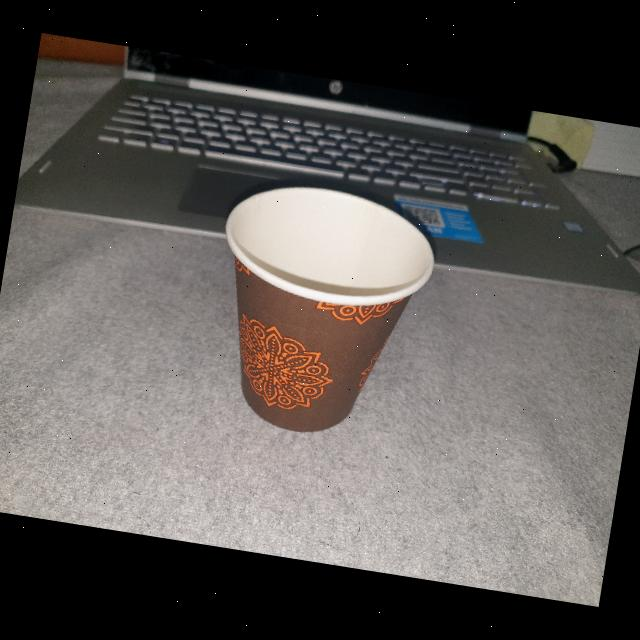trash: (197, 172, 448, 454)
